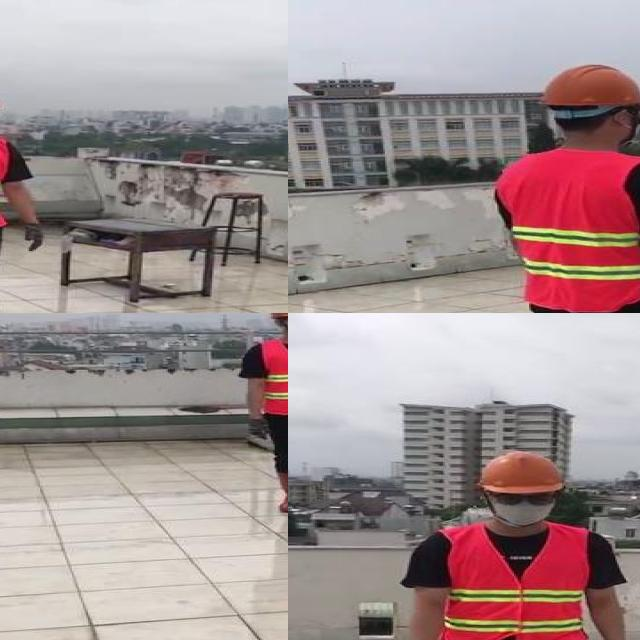boots: (274, 471, 288, 512)
face_mask: (484, 490, 558, 524)
glasses: (489, 488, 557, 508)
hand_glove: (24, 222, 43, 252), (248, 418, 273, 440)
head_helmet: (529, 60, 640, 108), (477, 449, 567, 494)
person: (397, 450, 637, 640), (477, 60, 640, 313), (232, 313, 288, 523), (0, 75, 48, 313)
vest: (493, 149, 640, 313), (439, 523, 593, 640), (262, 338, 288, 415)
